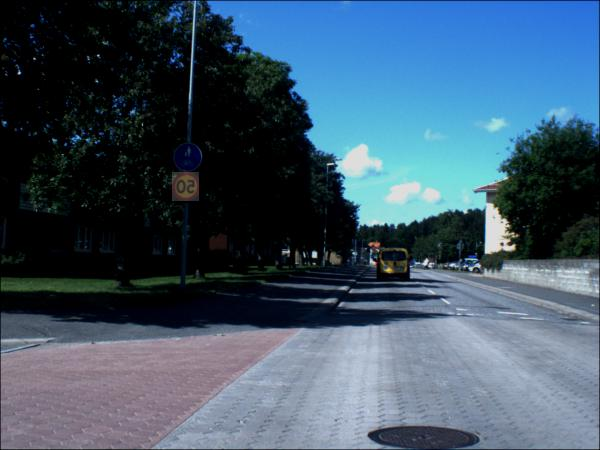50_SIGN: (172, 173, 200, 203)
